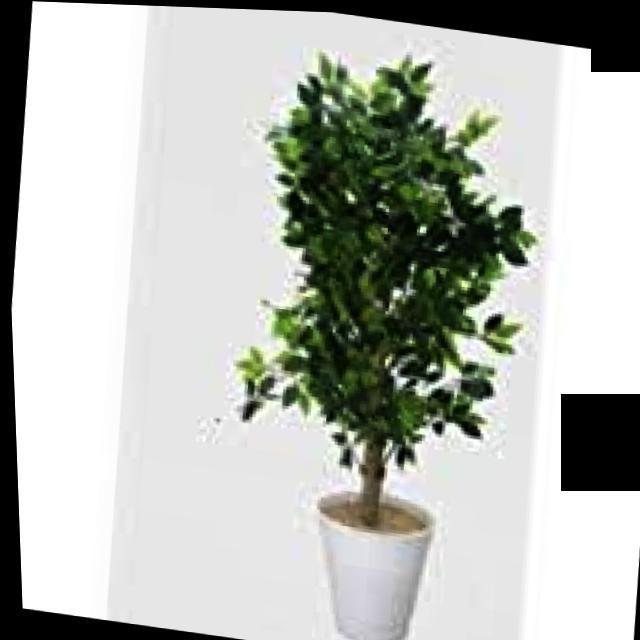tree: (204, 36, 556, 534)
